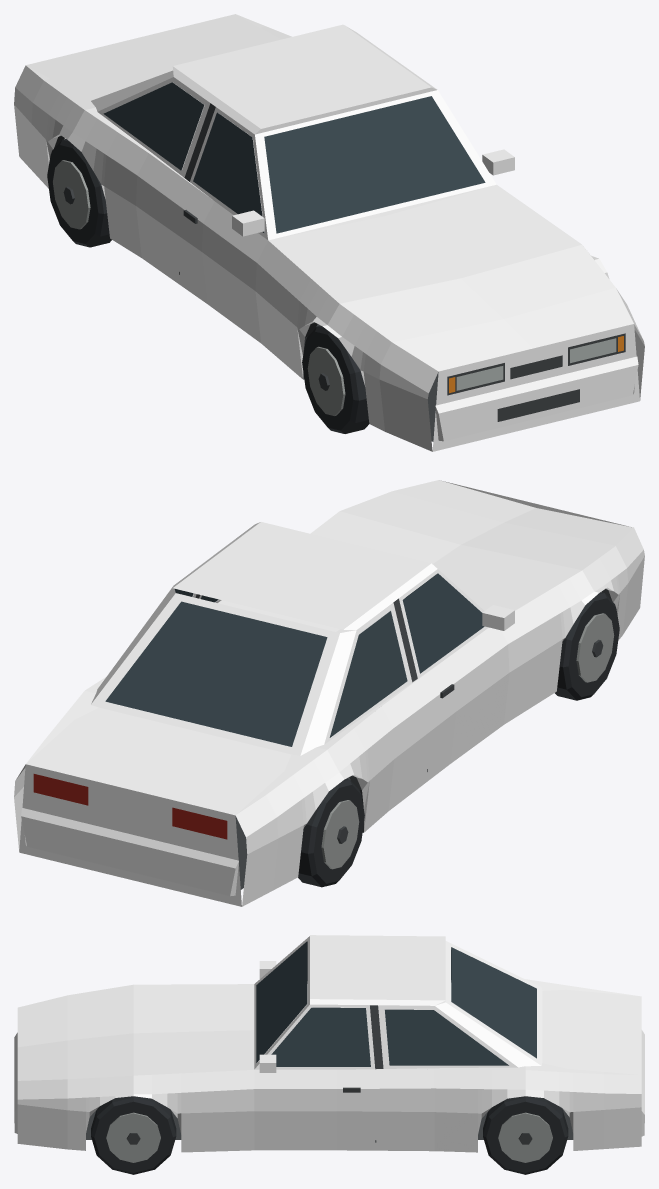
The model's file is hayase_kagaribi.glb.
3 renders of one model, top to bottom at view 1: azimuth 30°, elevation 25°; view 2: azimuth 150°, elevation 25°; view 3: azimuth 270°, elevation 25°, orthographic. The views are drawn at different scales.
Visible parts, largest first — view 1: hayase_kagaribi; view 2: hayase_kagaribi; view 3: hayase_kagaribi.
Boxes of the visible parts, box(x1,y1,x2,y2) form: hayase_kagaribi: box(14, 14, 644, 451); hayase_kagaribi: box(14, 480, 644, 906); hayase_kagaribi: box(14, 935, 644, 1174).
Bounding box in the file's own units: 1.78 × 1.27 × 4.57.
8 materials, 1 textured.
